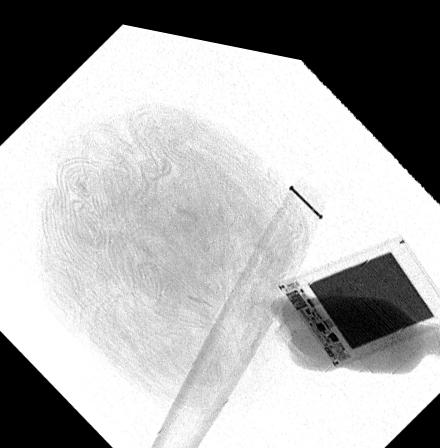Powerbank: (273, 218, 440, 353)
